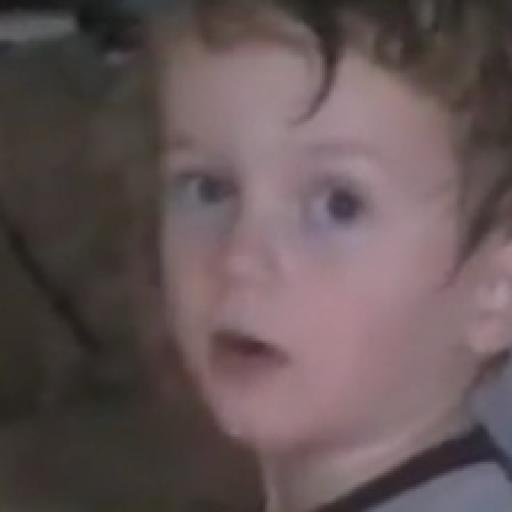Autism: (82, 25, 512, 512)
